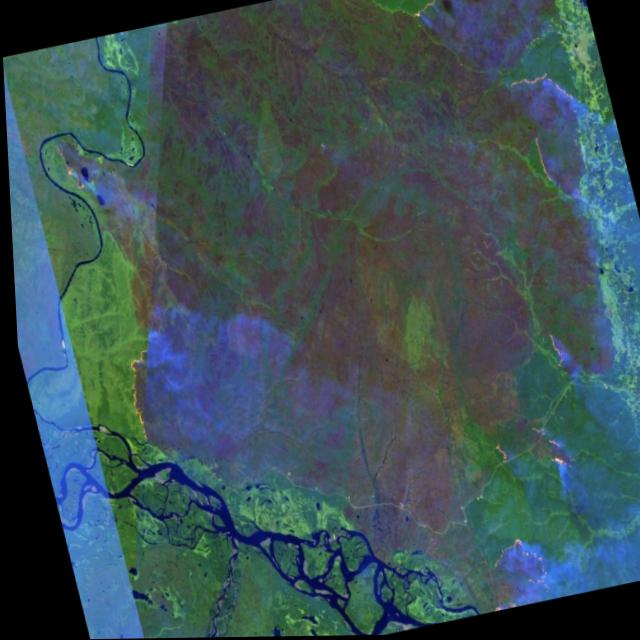fire: (23, 0, 640, 640)
